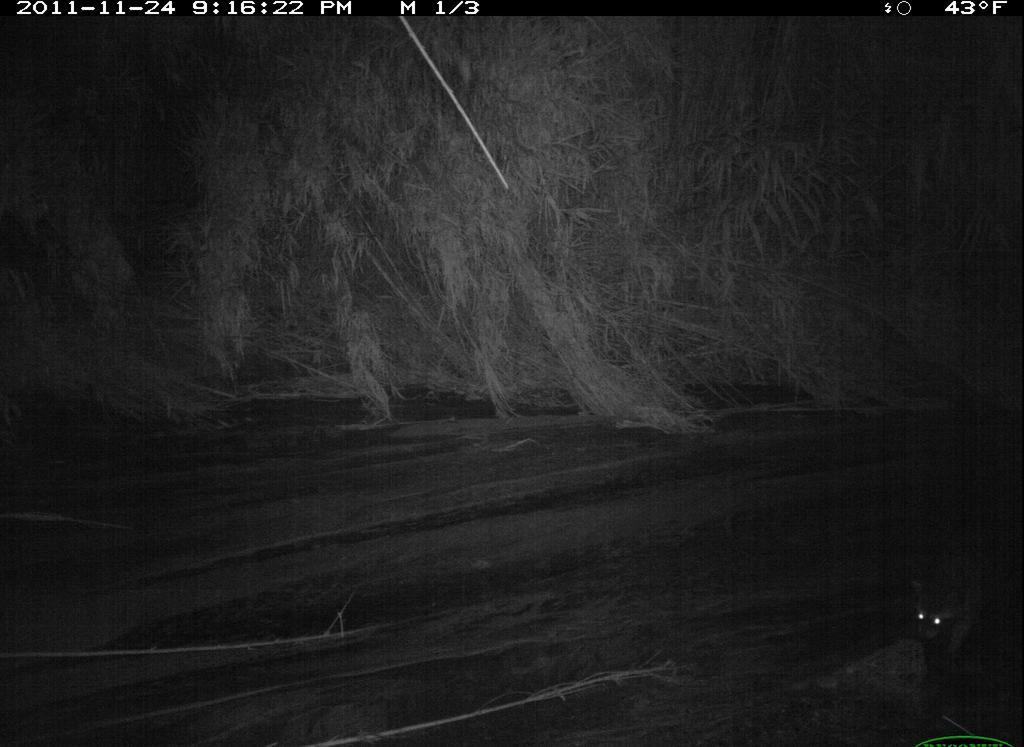raccoon: (902, 543, 1019, 683)
